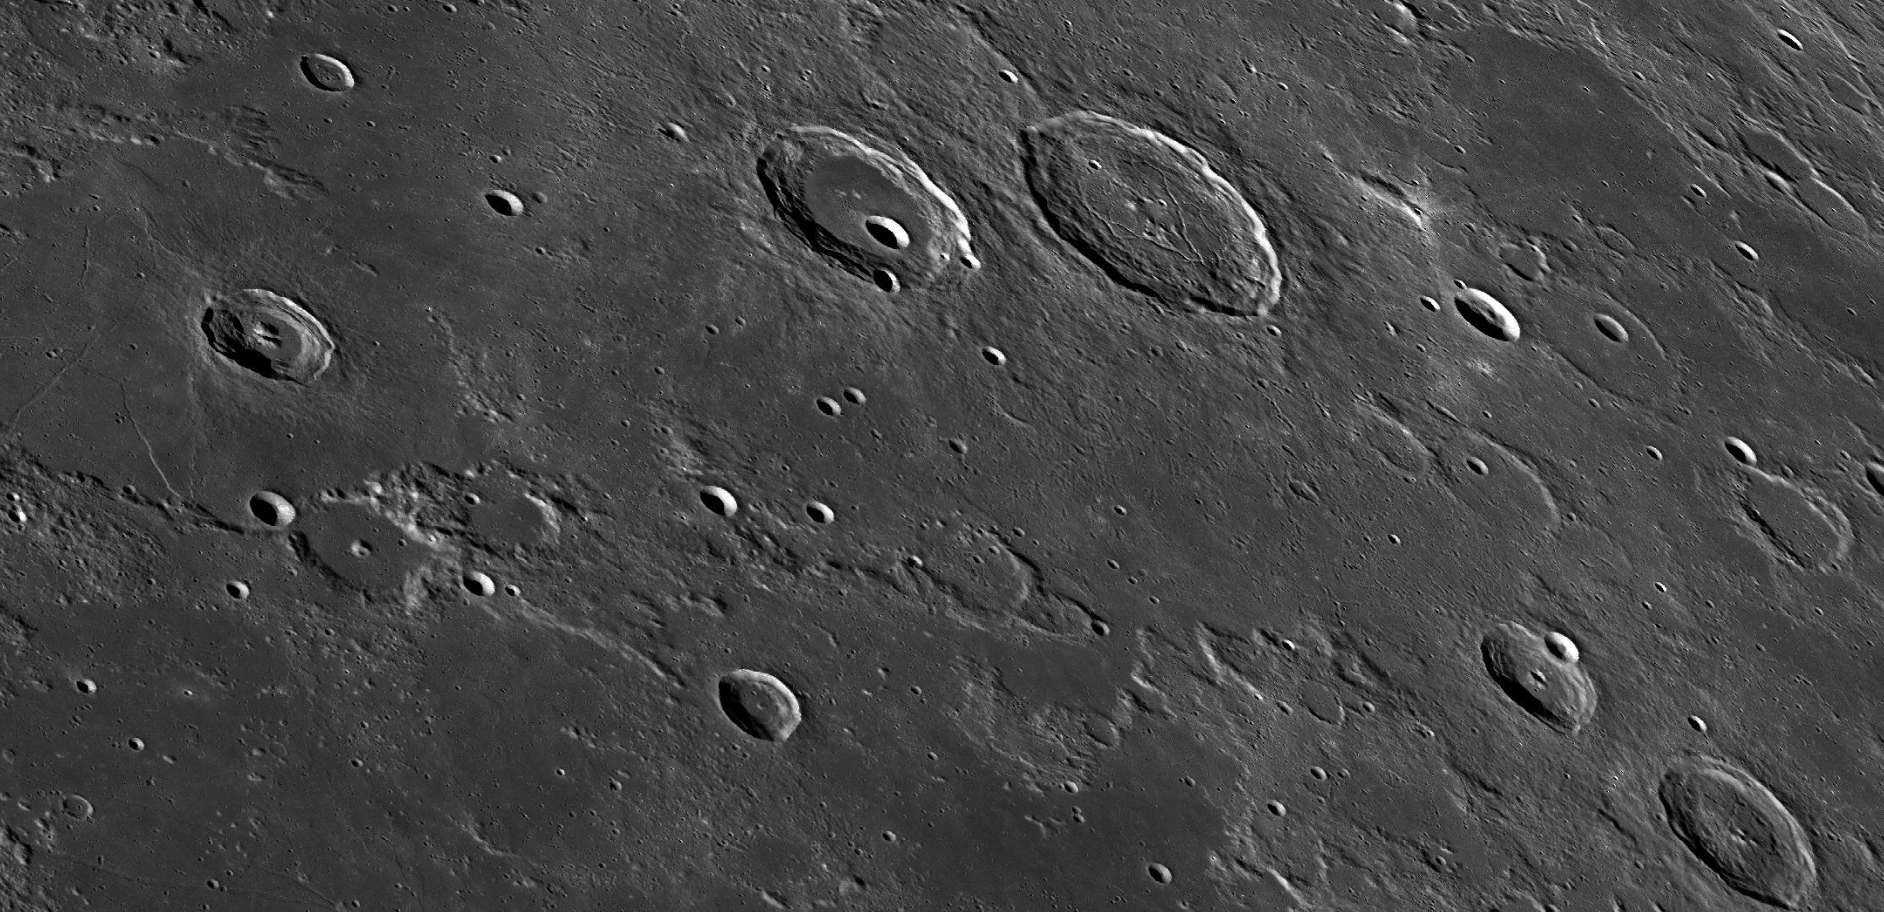crater: (619, 37, 997, 363), (998, 89, 1342, 374), (142, 236, 409, 436), (1420, 400, 1594, 562), (1461, 609, 1639, 767), (1695, 458, 1871, 606), (673, 640, 860, 777), (282, 37, 397, 125)
